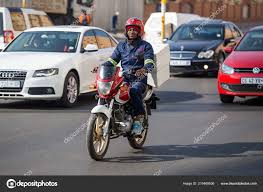bike: (85, 64, 152, 161)
